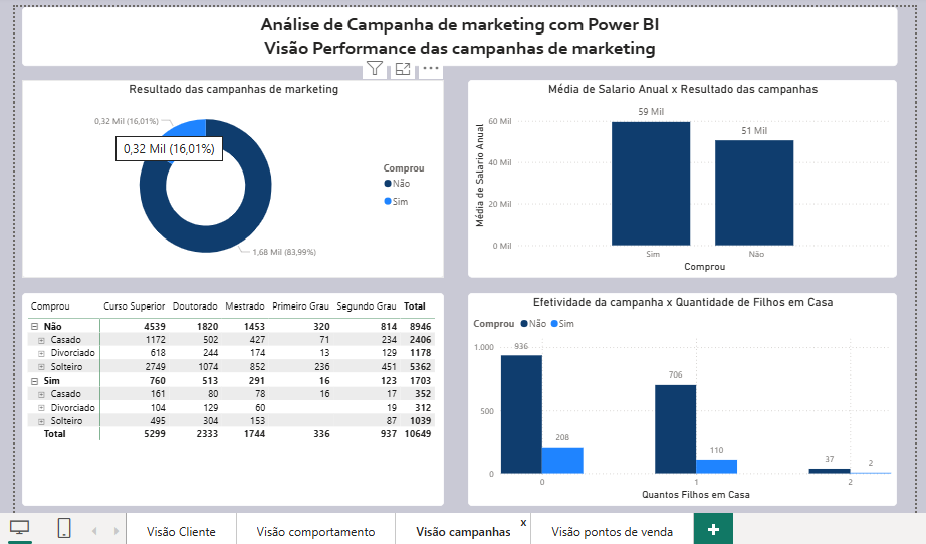

The dashboard page shown, as its layout file describes it:
{"tool":"powerbi","page":{"name":"Visão campanhas","canvas":[1280,720],"ordinal":2},"visuals":[{"type":"textbox","box":[10,0,1245,83.3],"z":0},{"type":"donutChart","title":"Resultado das campanhas de marketing","fields":{"Category":["Dados marketing.Comprou"],"Y":["CountNonNull(Dados marketing.ID)"]},"box":[10,103.3,600,278.3],"z":1000},{"type":"clusteredColumnChart","title":"Média de Salario Anual x Resultado das campanhas","fields":{"Category":["Dados marketing.Comprou"],"Y":["Avg(Dados marketing.Salario Anual)"]},"box":[645,103.3,610,278.3],"z":2000},{"type":"pivotTable","fields":{"Rows":["Dados marketing.Comprou","Dados marketing.Estado Civil","Dados marketing.Pais"],"Values":["Sum(Dados marketing.Numero Visitas WebSite Mes)"],"Columns":["Dados marketing.Escolaridade"]},"box":[10,403.3,600,300],"z":3000},{"type":"clusteredColumnChart","title":"Efetividade da campanha x  Quantidade de Filhos em Casa","fields":{"Series":["Dados marketing.Comprou"],"Y":["CountNonNull(Dados marketing.Filhos em Casa)"],"Category":["Dados marketing.Filhos em Casa"]},"box":[645,403.3,610,300],"z":4000}]}

Visuals, with their boxes on the page's 1280x720 design canvas (x1, y1, x2, y2). These are canvas units, not pixel positions in the 926x544 screenshot, which may show the page scaled, cropped or inside an application window:
textbox: crop(10, 0, 1255, 83)
"Resultado das campanhas de marketing" donutChart: crop(10, 103, 610, 382)
"Média de Salario Anual x Resultado das campanhas" clusteredColumnChart: crop(645, 103, 1255, 382)
pivotTable - Dados marketing.Comprou x Dados marketing.Estado Civil: crop(10, 403, 610, 703)
"Efetividade da campanha x  Quantidade de Filhos em Casa" clusteredColumnChart: crop(645, 403, 1255, 703)
